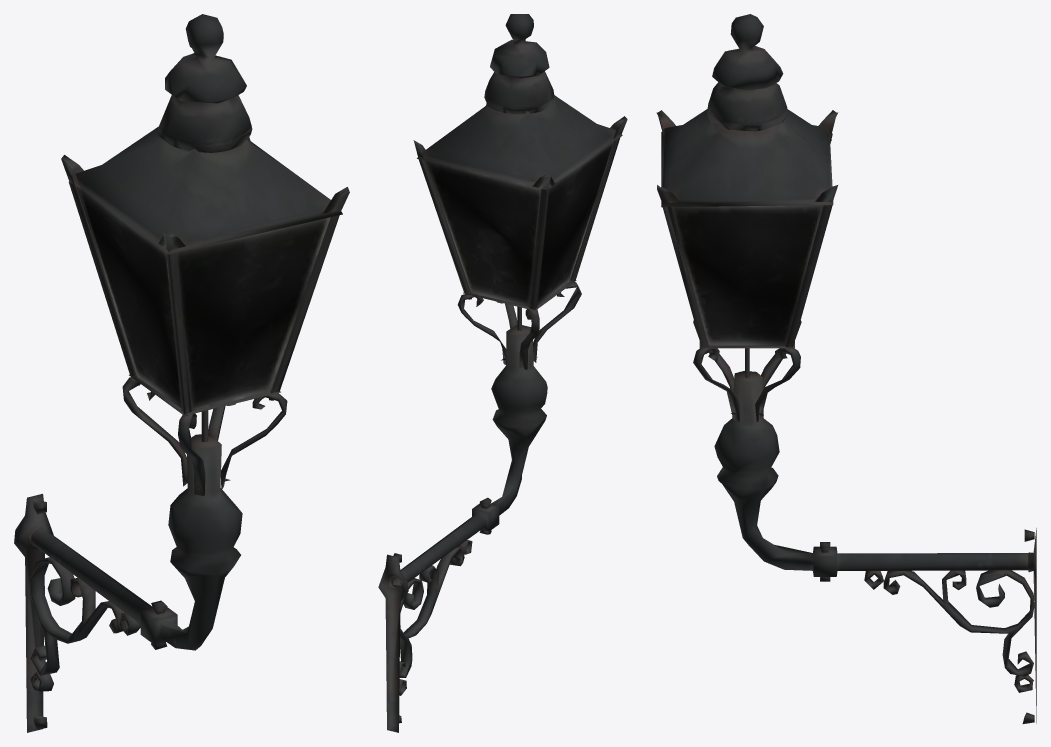
Rendered from street_lamp_02.gltf.
3 renders of one model, left to right at view 1: azimuth 30°, elevation 25°; view 2: azimuth 150°, elevation 25°; view 3: azimuth 270°, elevation 25°, orthographic. The views are drawn at different scales.
Parts seen in each view (by area): view 1: street_lamp_02; view 2: street_lamp_02; view 3: street_lamp_02.
Part boxes in pixels (<box>): street_lamp_02: <box>14,14,349,732</box>; street_lamp_02: <box>378,14,627,732</box>; street_lamp_02: <box>656,14,1036,723</box>.
Size of the model in its own units: 0.3857 by 1.67 by 0.8066.
Materials: 2 (2 with a texture image).
